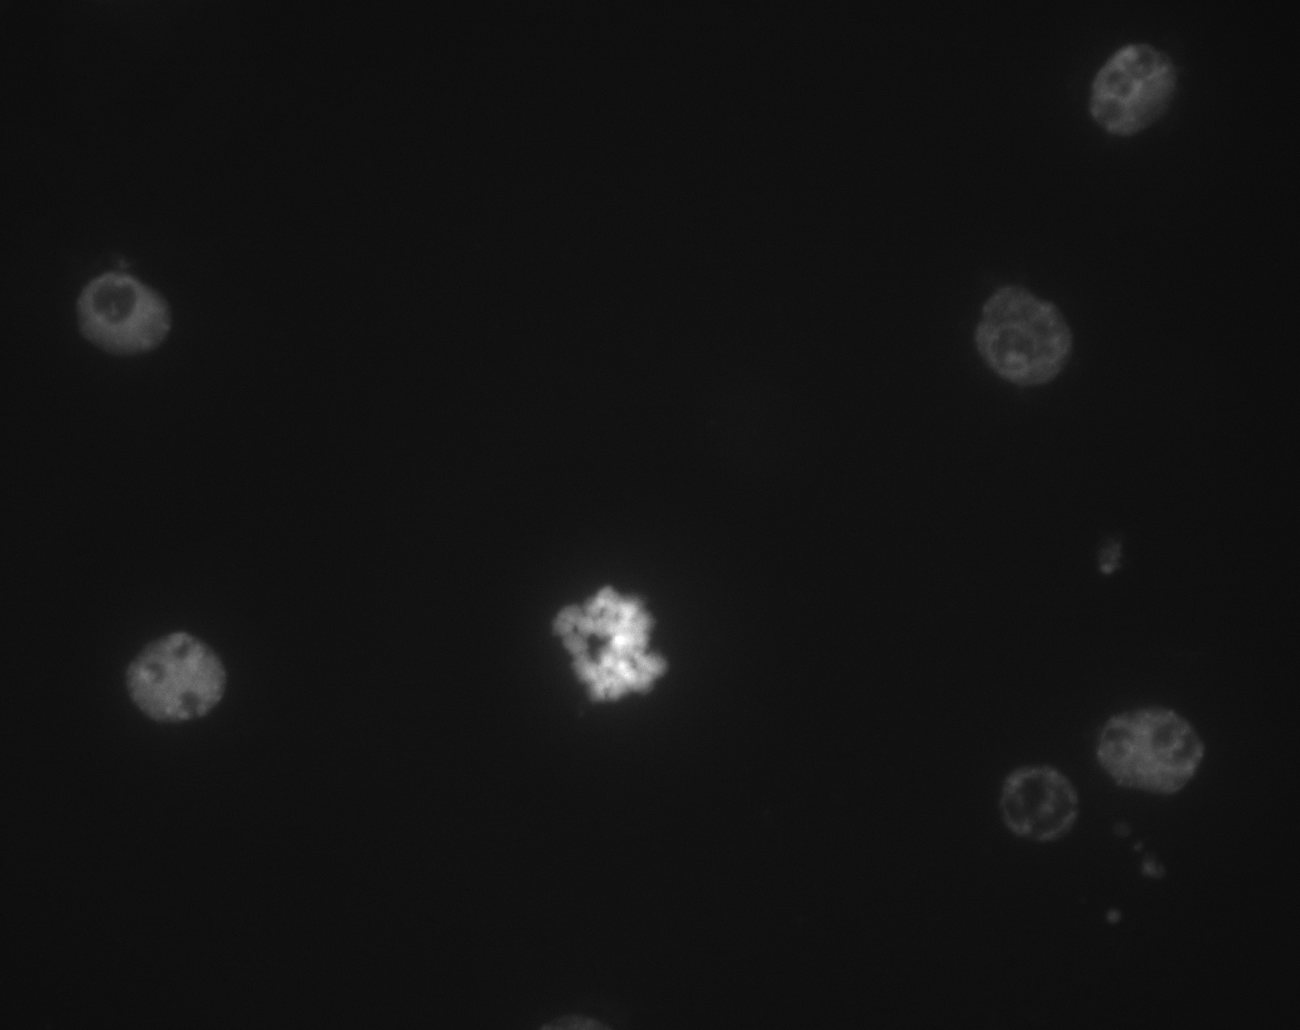Chromosomes: (528, 550, 702, 728)
Others: (944, 250, 1114, 421), (42, 222, 219, 381), (87, 590, 259, 746), (1059, 672, 1234, 826), (1045, 15, 1217, 169)
